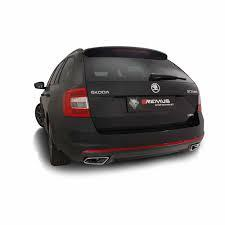skoda: (148, 81, 161, 94)
